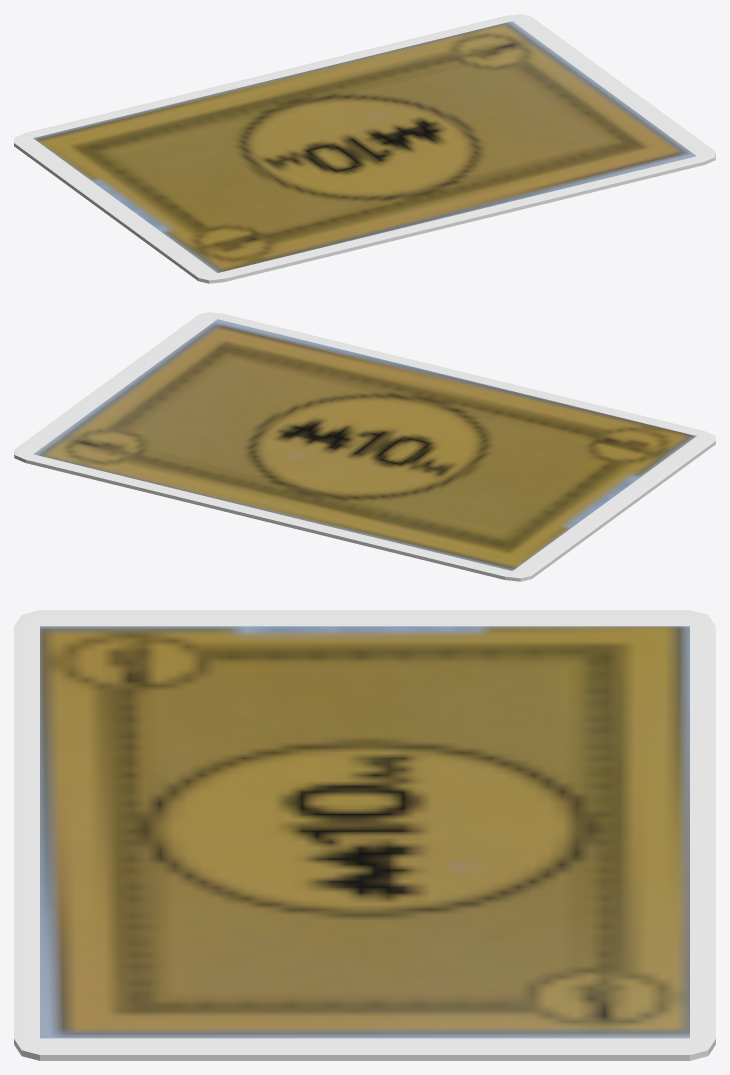
The picture shows the model from 3 angles, top to bottom: view 1: azimuth 30°, elevation 25°; view 2: azimuth 150°, elevation 25°; view 3: azimuth 270°, elevation 25°; orthographic projection. The views are drawn at different scales.
Parts seen in each view (by area): view 1: Cube; view 2: Cube; view 3: Cube.
Part boxes in pixels (bbox=[...]): Cube: bbox=[14, 14, 715, 283]; Cube: bbox=[14, 312, 715, 581]; Cube: bbox=[14, 610, 715, 1060].
Size of the model in its own units: 0.6 by 0.004 by 0.4.
Materials: 3 (2 with a texture image).
